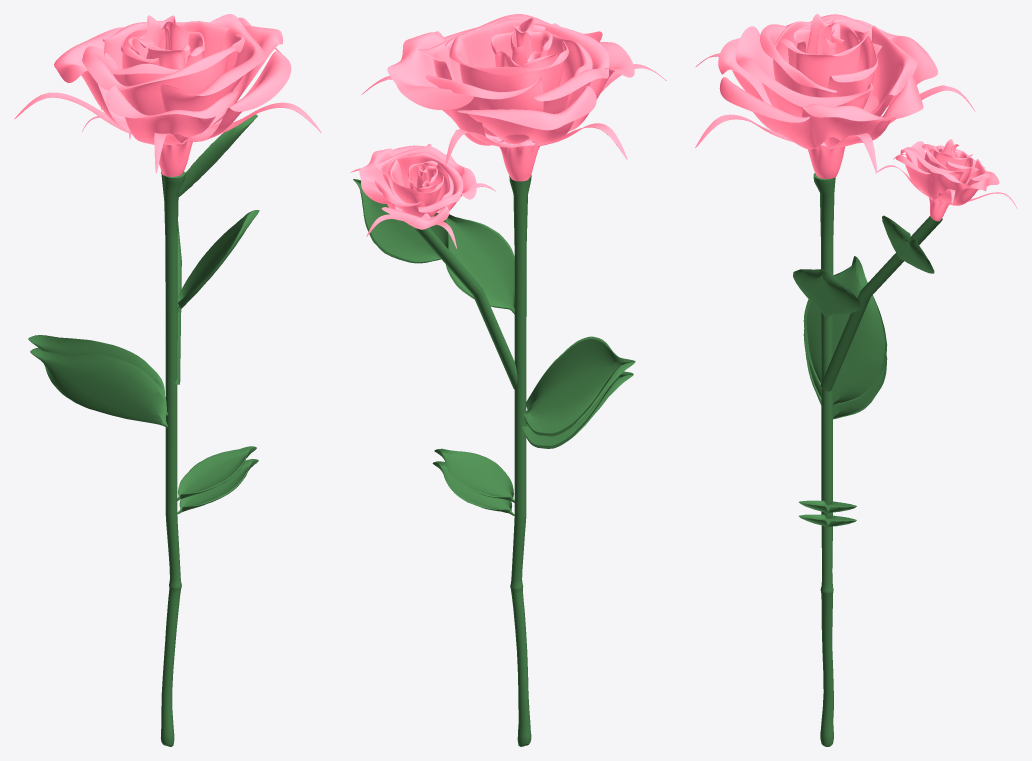
The model's file is rosepinkcp.glb.
The picture shows the model from 3 angles, left to right: view 1: azimuth 30°, elevation 25°; view 2: azimuth 150°, elevation 25°; view 3: azimuth 270°, elevation 25°; orthographic projection.
Parts seen in each view (by area): view 1: List-02; view 2: List-02; view 3: List-02.
Boxes of the visible parts, box(x1,y1,x2,y2) form: List-02: box(14, 14, 321, 746); List-02: box(350, 14, 666, 746); List-02: box(695, 14, 1017, 746).
Bounding box in the file's own units: 1.59 × 4.14 × 1.66.
